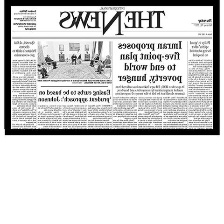news_paper: (8, 4, 216, 133)
